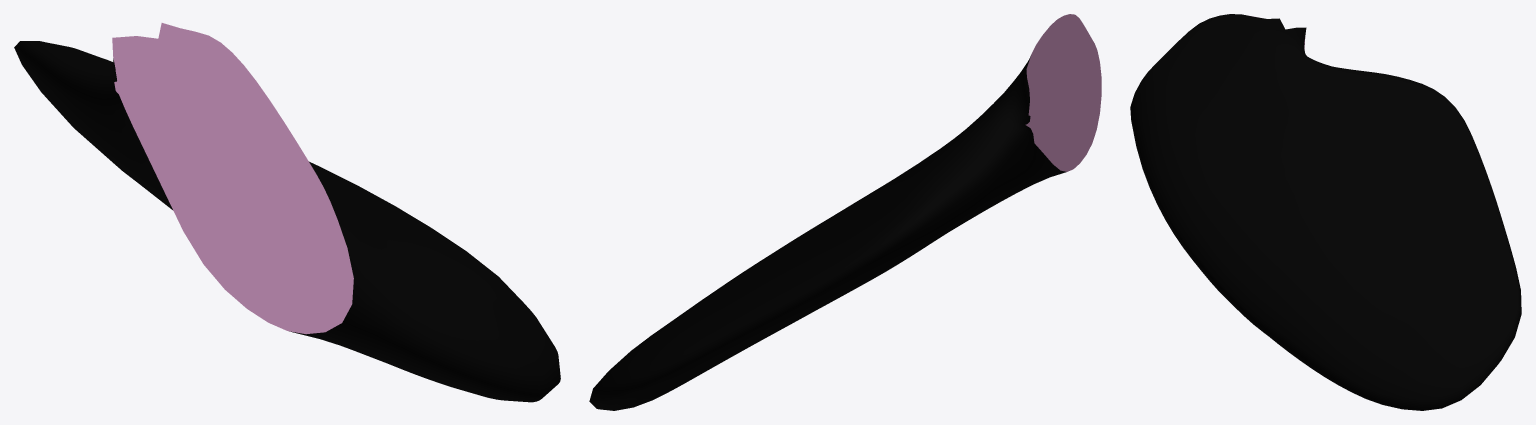
The model's file is AletaIzqOrca.obj.
3 views of the same model, side by side, from view 1: azimuth 30°, elevation 25°; view 2: azimuth 150°, elevation 25°; view 3: azimuth 270°, elevation 25° (orthographic). The views are drawn at different scales.
Visible parts, largest first — view 1: AletaIzq; view 2: AletaIzq; view 3: AletaIzq.
Part boxes in pixels (x1,y1,x2,y2): AletaIzq: (14, 23, 560, 402); AletaIzq: (589, 14, 1101, 410); AletaIzq: (1130, 14, 1521, 410).
Bounding box in the file's own units: 7.38 × 7.45 × 9.47.
